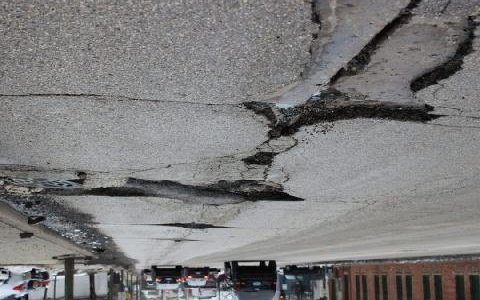pothole: (237, 0, 479, 140), (215, 177, 307, 205), (42, 185, 156, 201), (239, 150, 281, 168), (161, 221, 227, 230)
